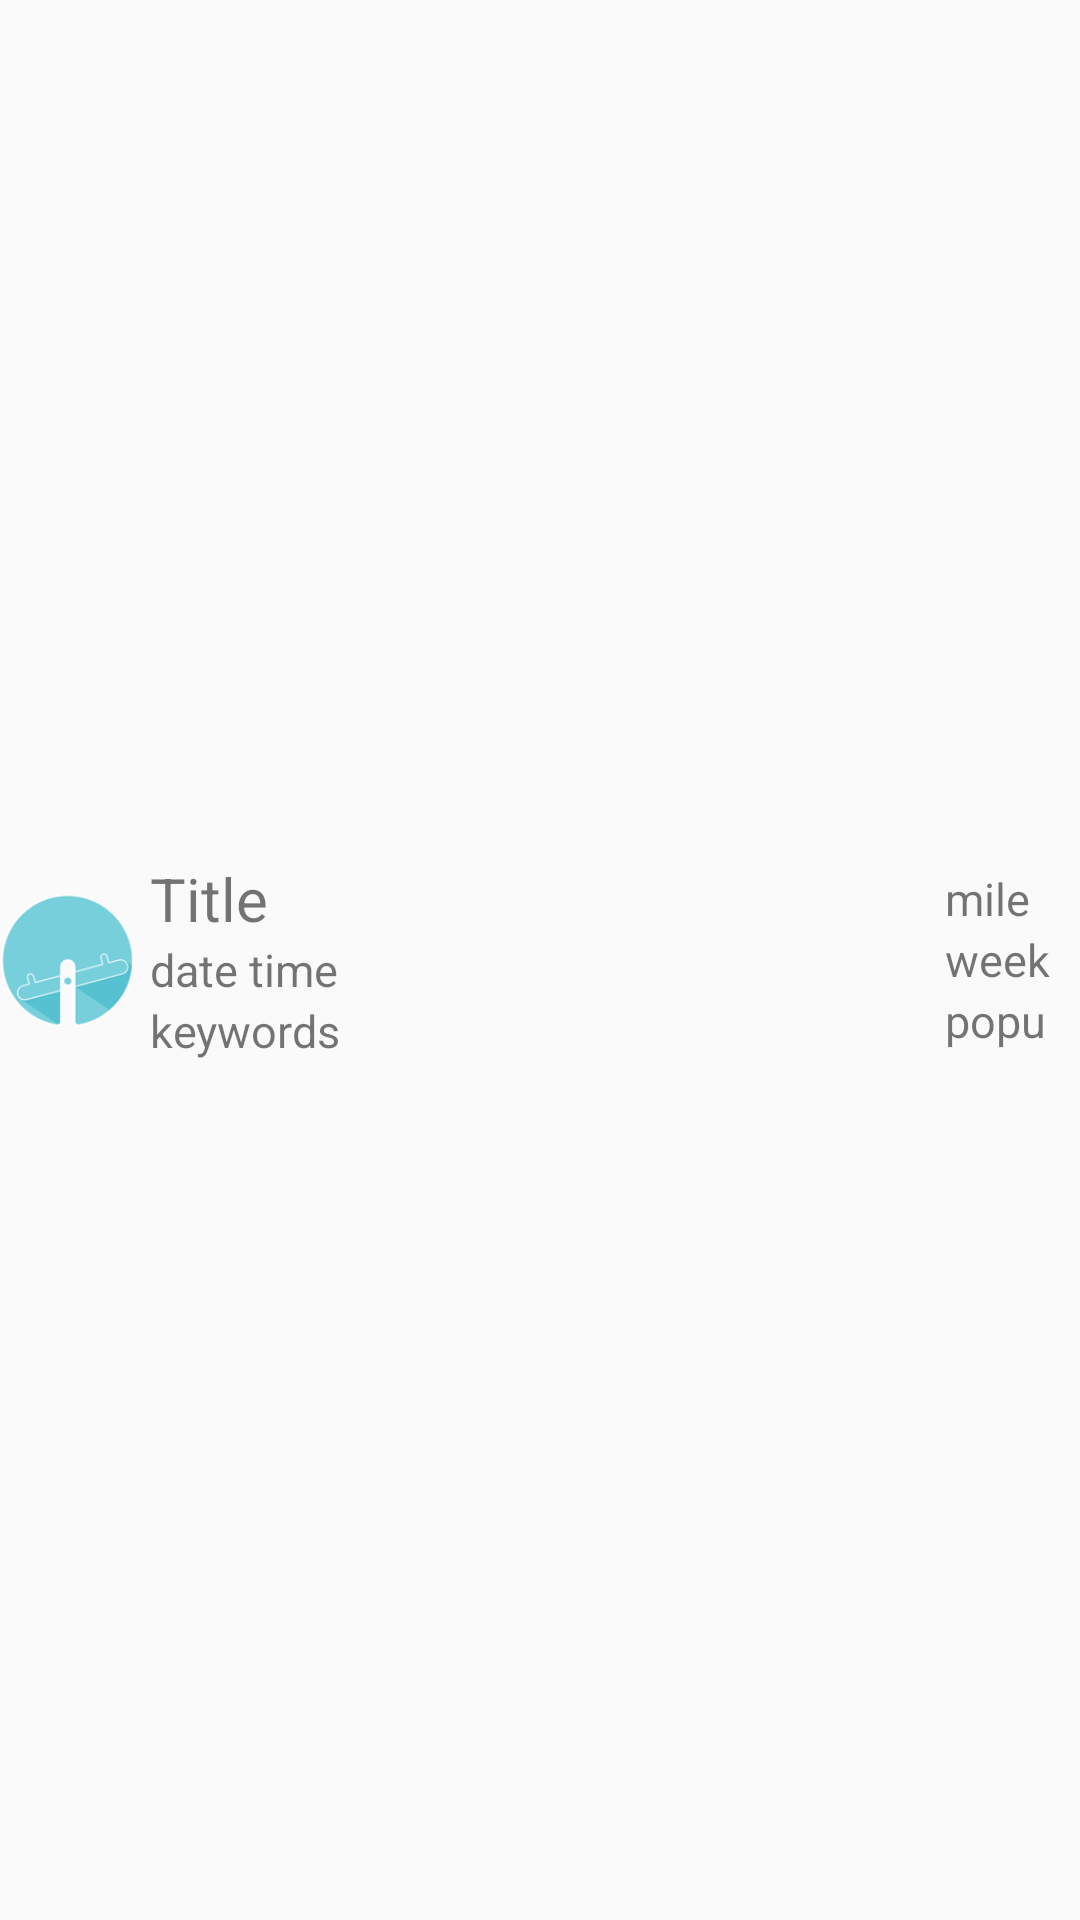

Where to tap for icons on this 1080px x 1920px app screen, as point (x, y):
teeter: point (67, 960)
